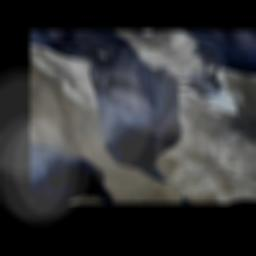Crow: (38, 32, 256, 193)
